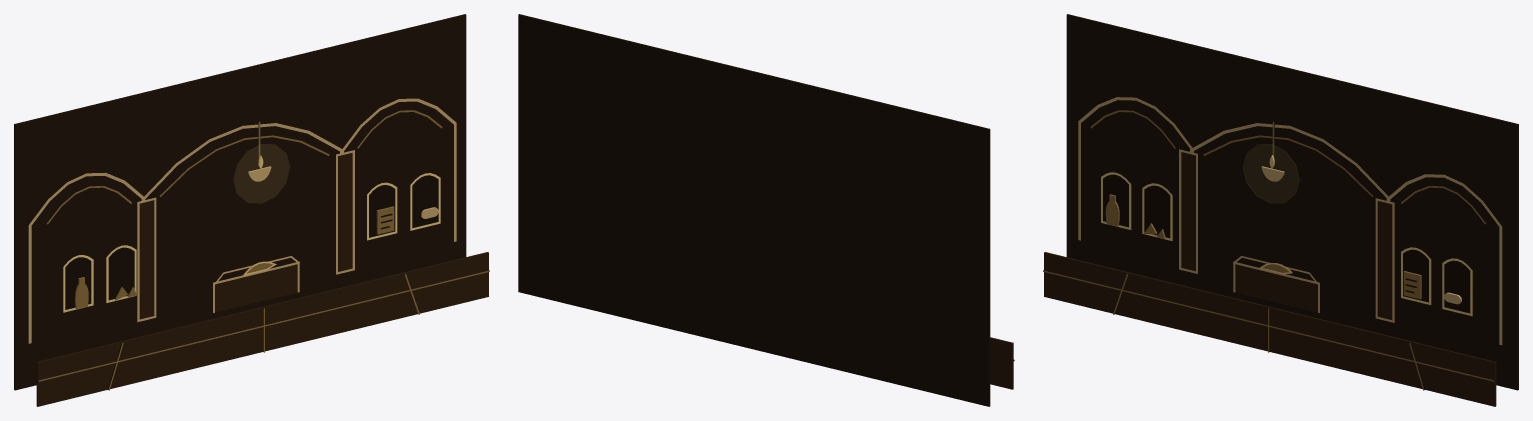
File: loc-kripta-muzei.glb
3 views of the same model, side by side, from view 1: azimuth 30°, elevation 25°; view 2: azimuth 150°, elevation 25°; view 3: azimuth 330°, elevation 25° (orthographic). The views are drawn at different scales.
Parts seen in each view (by area): view 1: loc-kripta-muzei; view 2: loc-kripta-muzei; view 3: loc-kripta-muzei.
Boxes of the visible parts, left/top/right/bottom form: loc-kripta-muzei: left=14, top=14, right=489, bottom=406; loc-kripta-muzei: left=518, top=14, right=1014, bottom=406; loc-kripta-muzei: left=1043, top=14, right=1518, bottom=406.
Bounding box in the file's own units: 5.33 × 3 × 0.501.
